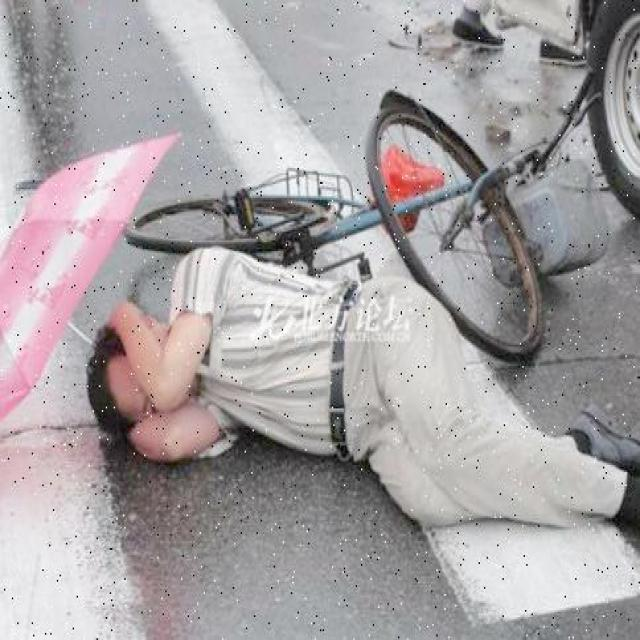fall: (92, 251, 628, 546)
